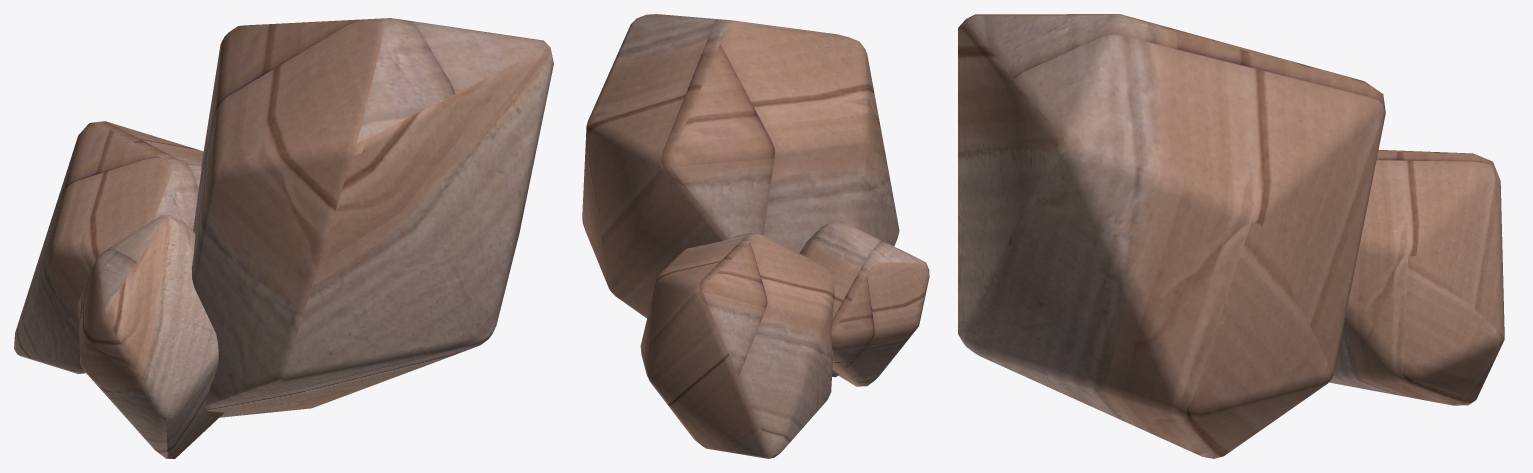
The model's file is FOREST_DECOR_ROCKS_003.obj.
The picture shows the model from 3 angles, left to right: view 1: azimuth 30°, elevation 25°; view 2: azimuth 150°, elevation 25°; view 3: azimuth 270°, elevation 25°; orthographic projection. The views are drawn at different scales.
Visible parts, largest first — view 1: FOREST_DECOR_ROCKS_003; view 2: FOREST_DECOR_ROCKS_003; view 3: FOREST_DECOR_ROCKS_003.
Part boxes in pixels (x1,y1,x2,y2): FOREST_DECOR_ROCKS_003: [14, 18, 553, 458]; FOREST_DECOR_ROCKS_003: [582, 14, 929, 458]; FOREST_DECOR_ROCKS_003: [958, 14, 1504, 458].
Size of the model in its own units: 0.7014 by 0.6336 by 0.7001.
